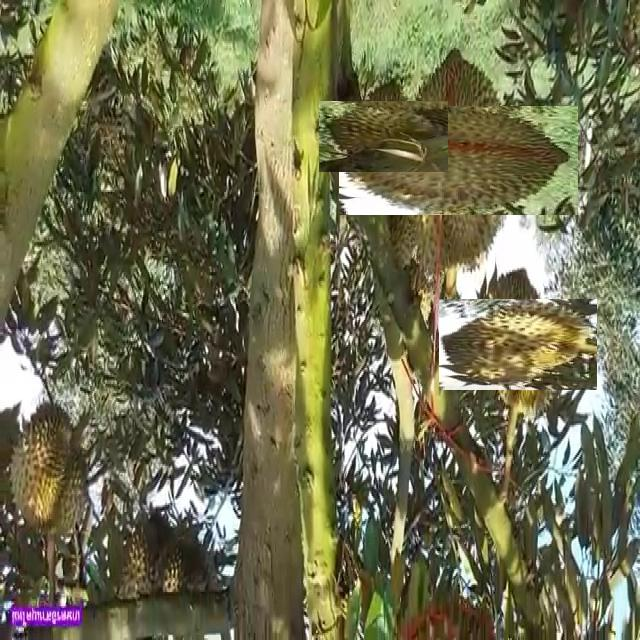durian: (371, 72, 546, 248), (456, 283, 580, 407), (6, 394, 90, 544), (333, 86, 433, 187)
